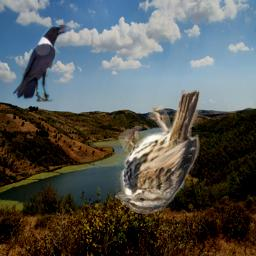Crow: (13, 25, 66, 102)
Sparrow: (115, 90, 200, 215)
